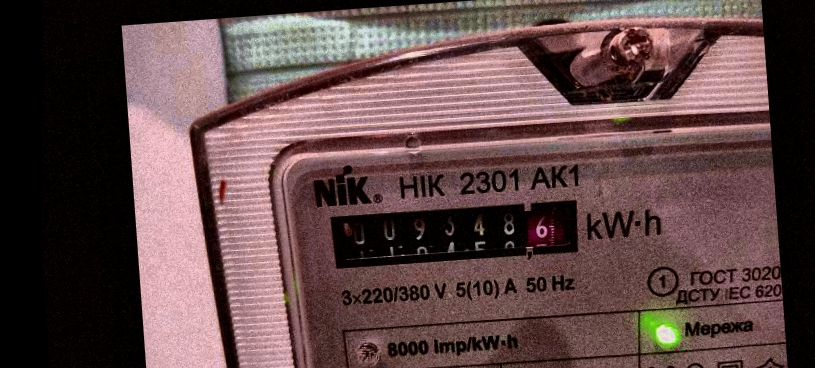0: (350, 219, 368, 246), (381, 214, 397, 241)
3: (442, 211, 457, 237)
4: (468, 207, 489, 238)
6: (532, 210, 551, 240)
8: (501, 207, 518, 236)
9: (412, 215, 428, 243)
screen: (312, 183, 595, 281)
